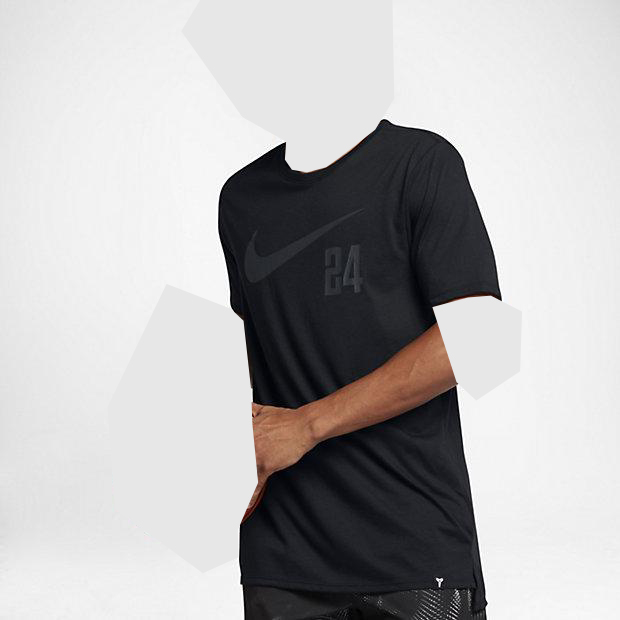teeshirt: (215, 118, 516, 591)
